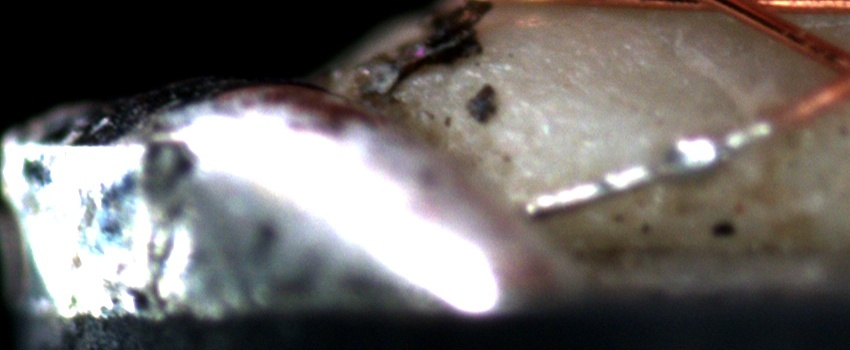TB: (662, 126, 721, 182)
TS: (528, 124, 770, 216)
TTCW: (514, 76, 842, 223)
